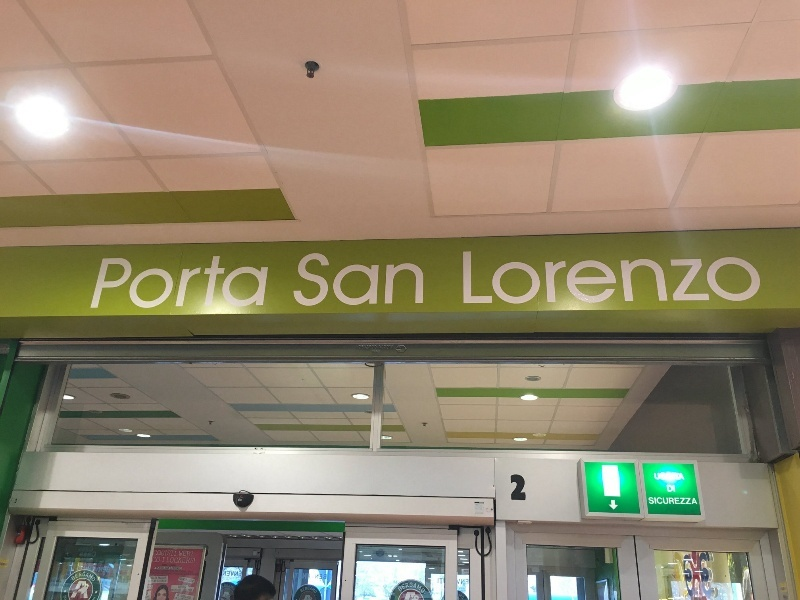text: (305, 252, 320, 308), (321, 252, 336, 308), (337, 252, 352, 308), (353, 252, 368, 308), (369, 252, 384, 308), (385, 252, 400, 308), (401, 252, 416, 308), (465, 251, 480, 306), (481, 251, 496, 306), (497, 251, 512, 306), (513, 251, 528, 306), (529, 251, 544, 306), (545, 251, 560, 306), (561, 251, 576, 306), (577, 251, 592, 306), (593, 251, 608, 306), (609, 251, 624, 306), (625, 251, 640, 306), (641, 251, 656, 306), (657, 251, 672, 306), (673, 251, 688, 306), (689, 251, 704, 306), (705, 251, 720, 306), (721, 251, 736, 306), (737, 251, 752, 306), (113, 258, 128, 310), (129, 258, 144, 310), (145, 258, 160, 310), (161, 258, 176, 310), (177, 258, 192, 310), (193, 258, 208, 310), (209, 258, 224, 310), (225, 258, 240, 310), (241, 258, 256, 310), (257, 258, 270, 310), (102, 258, 112, 310), (417, 252, 425, 308), (753, 251, 761, 306), (401, 575, 416, 594), (81, 566, 97, 582), (300, 252, 304, 308), (417, 575, 426, 594), (305, 583, 318, 595), (71, 566, 80, 582), (657, 497, 672, 505), (673, 497, 688, 505), (657, 473, 672, 481), (161, 550, 177, 557), (462, 251, 464, 306), (305, 572, 320, 579), (177, 558, 192, 565), (81, 551, 96, 558), (97, 566, 110, 573), (449, 579, 464, 585), (673, 473, 684, 481), (225, 584, 237, 591), (225, 572, 241, 577), (179, 551, 192, 557), (81, 546, 94, 552), (369, 345, 384, 350), (689, 497, 698, 505), (163, 557, 176, 562), (295, 572, 304, 579), (87, 566, 96, 573), (438, 579, 448, 585), (161, 567, 176, 571), (180, 578, 192, 583), (649, 497, 656, 505), (168, 558, 176, 565), (178, 595, 192, 599), (153, 557, 160, 564), (359, 345, 368, 350), (177, 589, 192, 592), (321, 572, 327, 579), (154, 550, 160, 557), (458, 593, 464, 600), (385, 345, 393, 350), (667, 485, 672, 493), (398, 575, 400, 594), (301, 583, 304, 595), (373, 350, 384, 353), (149, 580, 160, 583), (178, 586, 192, 588), (177, 597, 186, 600), (673, 485, 676, 493), (193, 558, 196, 565), (150, 577, 160, 579), (465, 579, 468, 585), (161, 580, 167, 583), (654, 473, 656, 481), (156, 567, 160, 571), (177, 567, 181, 571), (65, 595, 68, 600), (222, 584, 224, 591), (161, 577, 167, 579), (172, 589, 176, 592), (193, 551, 194, 557), (94, 597, 96, 600), (223, 572, 224, 577), (193, 578, 194, 583), (175, 597, 176, 600)
